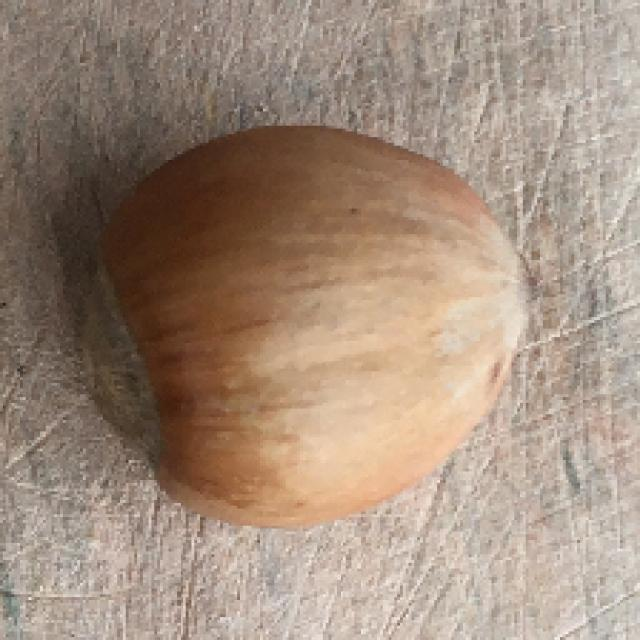qualityHazelnut: (72, 130, 534, 534)
